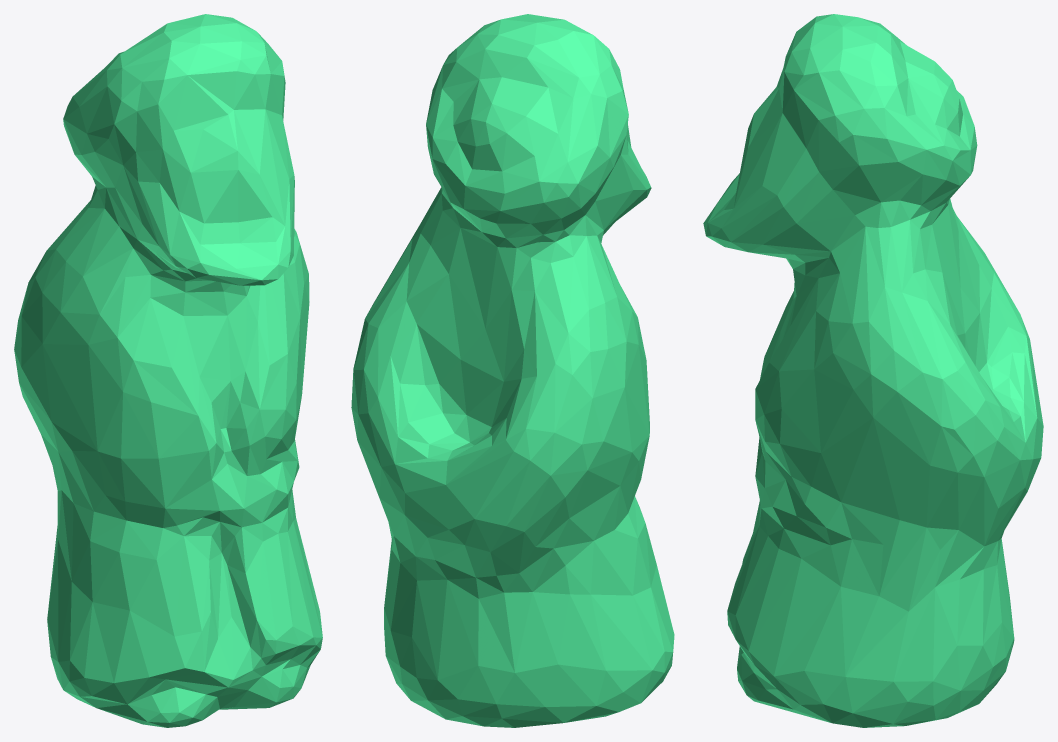
The model's file is oldman.fbx.
3 views of the same model, side by side, from view 1: azimuth 30°, elevation 25°; view 2: azimuth 150°, elevation 25°; view 3: azimuth 270°, elevation 25° (orthographic).
Parts seen in each view (by area): view 1: 0oldman; view 2: 0oldman; view 3: 0oldman.
Boxes of the visible parts, x1=… form: 0oldman: x1=14, y1=14, x2=322, y2=727; 0oldman: x1=351, y1=14, x2=674, y2=727; 0oldman: x1=703, y1=14, x2=1043, y2=727.
Bounding box in the file's own units: 52.22 × 124 × 58.83.
